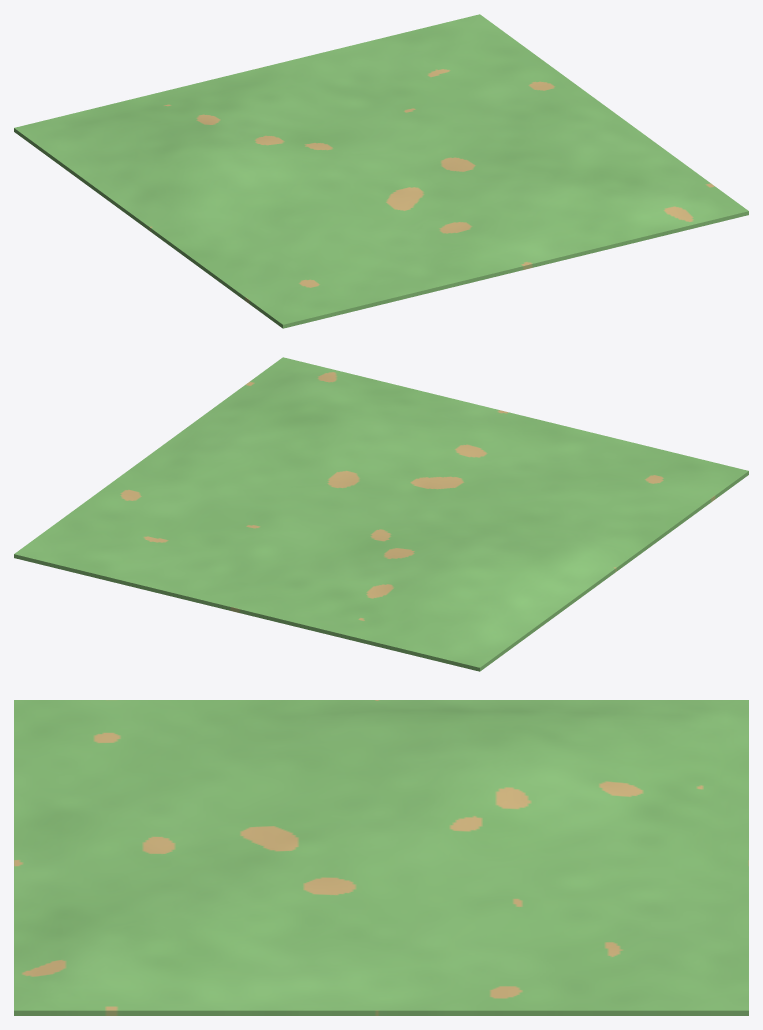
The model's file is Grass_Flat_10.obj.
3 renders of one model, top to bottom at view 1: azimuth 30°, elevation 25°; view 2: azimuth 150°, elevation 25°; view 3: azimuth 270°, elevation 25°, orthographic. The views are drawn at different scales.
Size of the model in its own units: 10 by 0.3904 by 10.
Materials: 1 (1 with a texture image).
